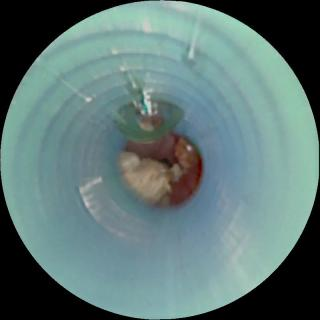stone: (121, 152, 183, 203), (176, 139, 198, 170)
